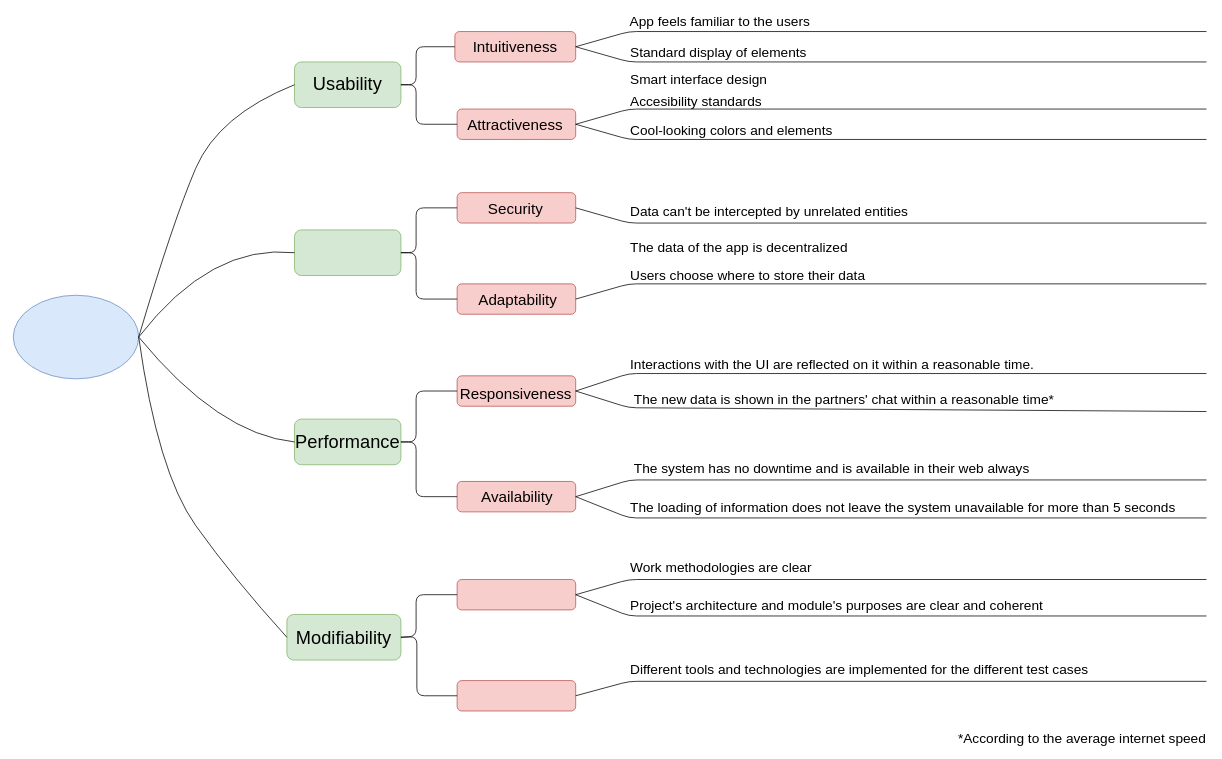
The diagram is 1222 pixels wide and 759 high, and some of its shapes have lost their labels. Each missing label, with the centre of its shape:
Maintainability: (516,594)
Privacy: (347,252)
Quality: (76,336)
Testability: (516,695)
